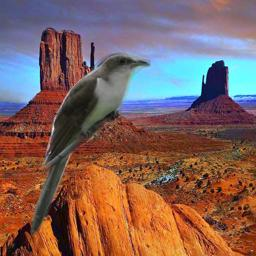Cuckoo: (25, 51, 151, 239)
